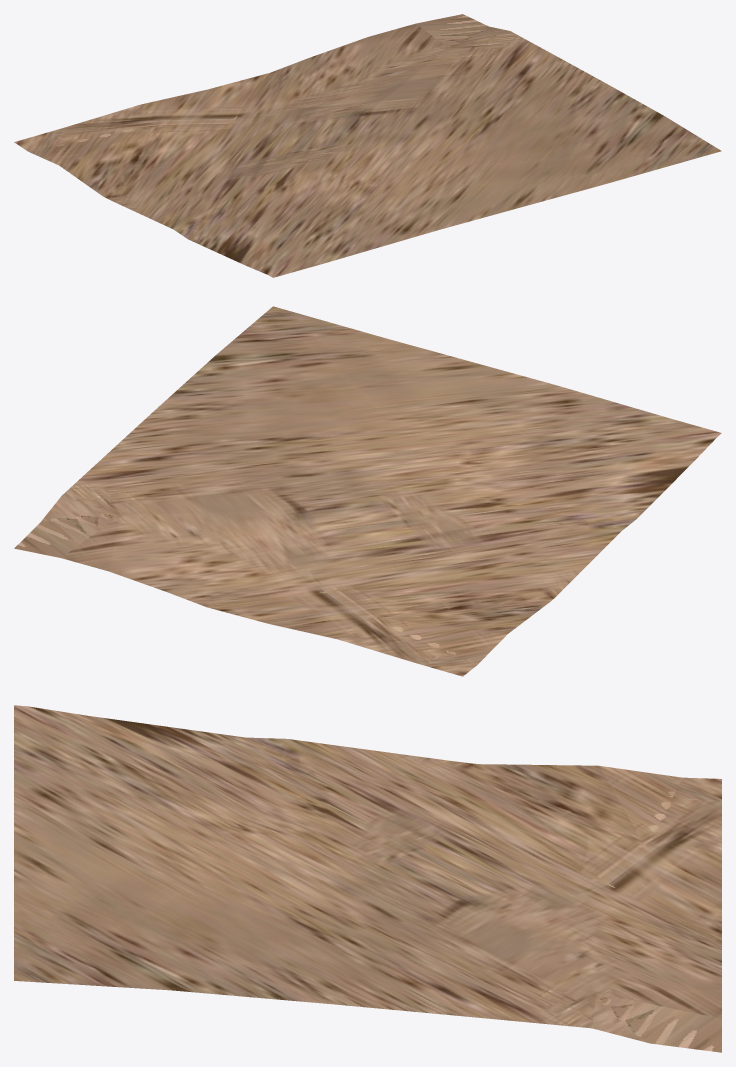
3 renders of one model, top to bottom at view 1: azimuth 30°, elevation 25°; view 2: azimuth 150°, elevation 25°; view 3: azimuth 270°, elevation 25°, orthographic. The views are drawn at different scales.
Size of the model in its own units: 2.09 by 0.3167 by 2.09.
Materials: 3 (3 with a texture image).
